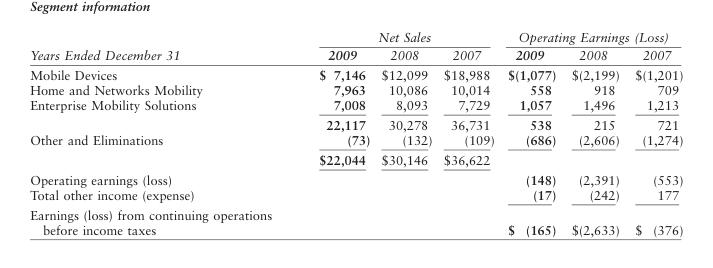table: (29, 29, 682, 236)
table column: (29, 29, 294, 236), (294, 29, 374, 236), (562, 29, 626, 236), (374, 29, 437, 236), (437, 29, 500, 236), (500, 29, 562, 236), (626, 29, 682, 236)
table column header: (29, 29, 682, 64)
table row: (29, 204, 682, 236), (29, 149, 682, 169), (29, 45, 682, 64), (29, 64, 682, 82), (29, 131, 682, 149), (29, 186, 682, 204), (29, 97, 682, 114), (29, 114, 682, 131), (29, 169, 682, 186), (29, 29, 682, 45), (29, 82, 682, 97)
table spanning cell: (29, 29, 294, 64), (294, 29, 500, 45), (500, 29, 682, 45)
